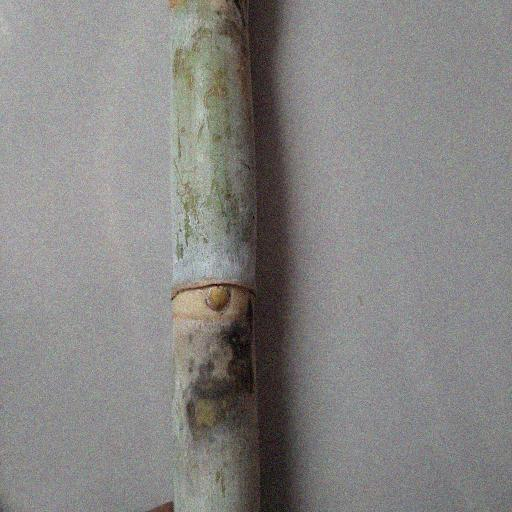Bud: (205, 285, 231, 312)
